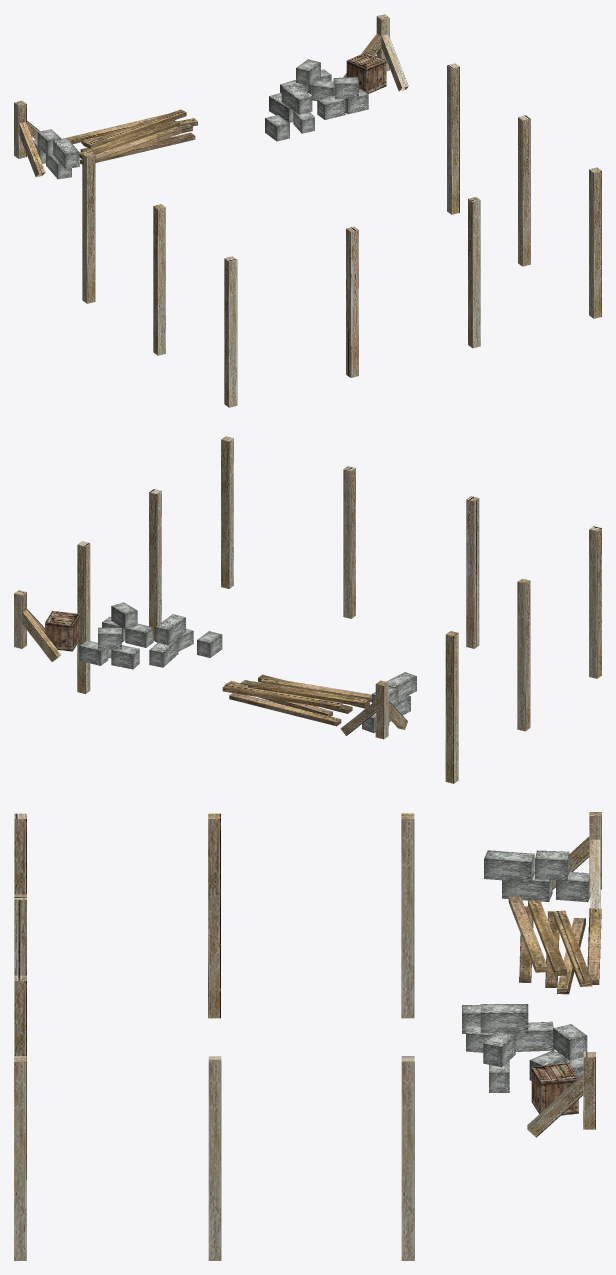
Rendered from found_dock_4x4.dae.
3 renders of one model, top to bottom at view 1: azimuth 30°, elevation 25°; view 2: azimuth 150°, elevation 25°; view 3: azimuth 270°, elevation 25°, orthographic. The views are drawn at different scales.
Visible parts, largest first — view 1: Object1048; view 2: Object1048; view 3: Object1048.
Boxes of the visible parts, left/top/right/bottom form: Object1048: left=14, top=14, right=601, bottom=407; Object1048: left=14, top=436, right=601, bottom=783; Object1048: left=14, top=812, right=601, bottom=1260.
Bounding box in the file's own units: 19.66 × 7.43 × 19.69.
